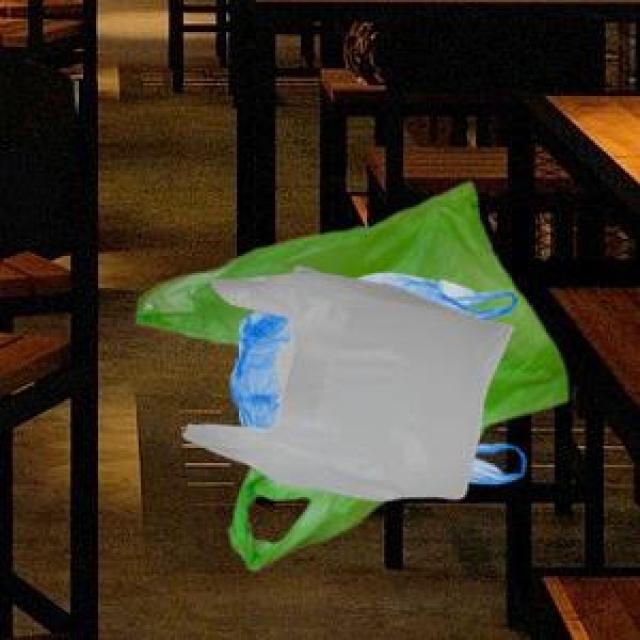plastic: (118, 167, 601, 614)
